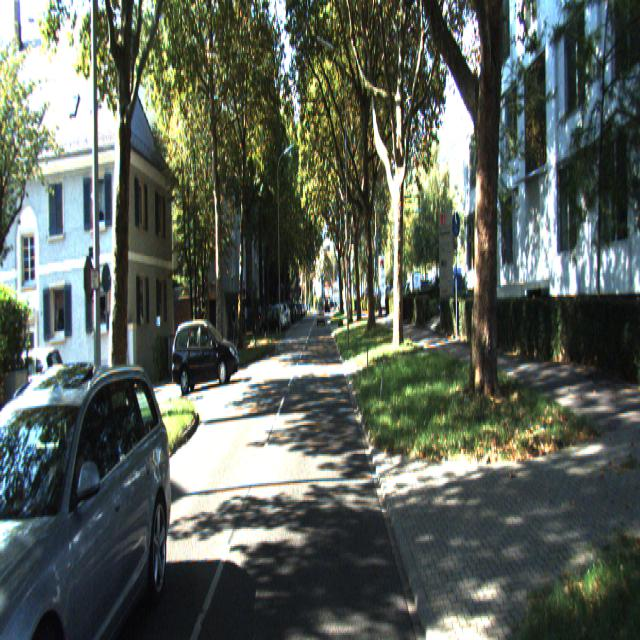Car: (0, 351, 179, 639), (172, 318, 240, 394)
